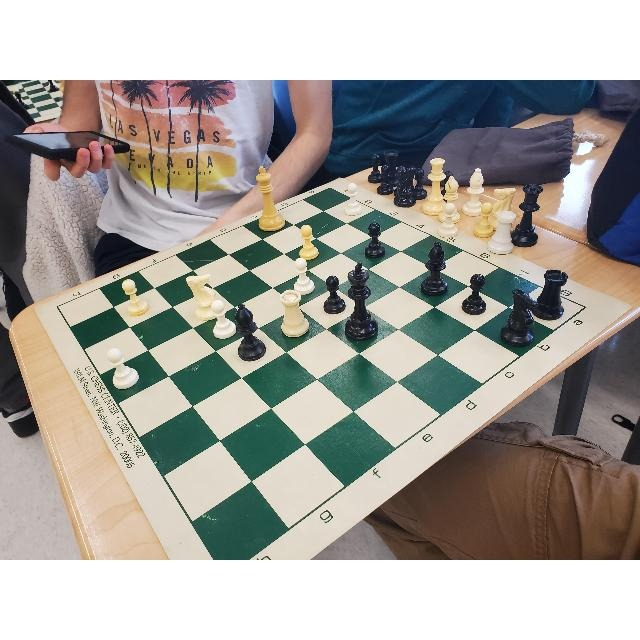black-bishop: (234, 300, 270, 366), (419, 239, 450, 299)
black-king: (345, 260, 379, 341)
black-knight: (499, 286, 538, 348)
black-pawn: (320, 273, 347, 319), (462, 271, 488, 316), (362, 219, 388, 261)
black-rook: (530, 268, 569, 324)
white-king: (253, 166, 289, 232)
white-knight: (185, 272, 223, 318)
white-pawn: (104, 346, 142, 389), (122, 276, 152, 319), (210, 299, 238, 341), (292, 256, 318, 295), (298, 224, 322, 260), (343, 183, 362, 216)
white-rook: (279, 289, 313, 339)
